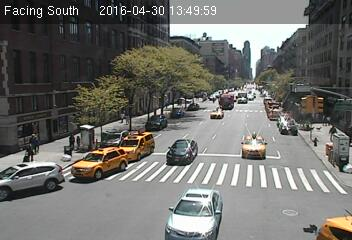pos: (1, 12, 42, 68), (31, 73, 67, 121), (52, 6, 84, 49), (174, 144, 203, 182), (272, 17, 299, 51), (196, 191, 219, 222), (254, 136, 275, 164), (227, 115, 242, 136), (63, 128, 78, 148), (202, 8, 217, 28), (225, 57, 240, 77), (250, 64, 258, 75), (226, 85, 234, 96), (243, 76, 250, 85), (213, 88, 219, 95)
